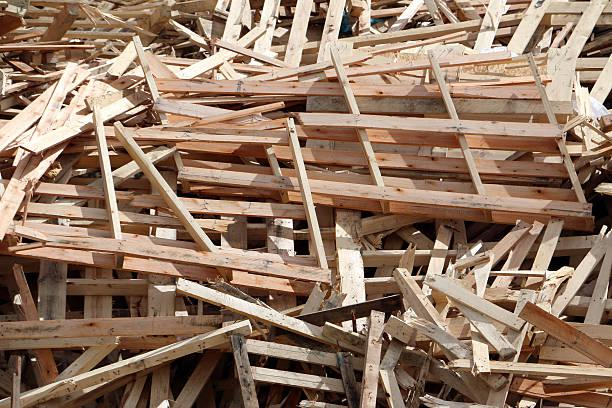wood: (4, 5, 608, 404)
